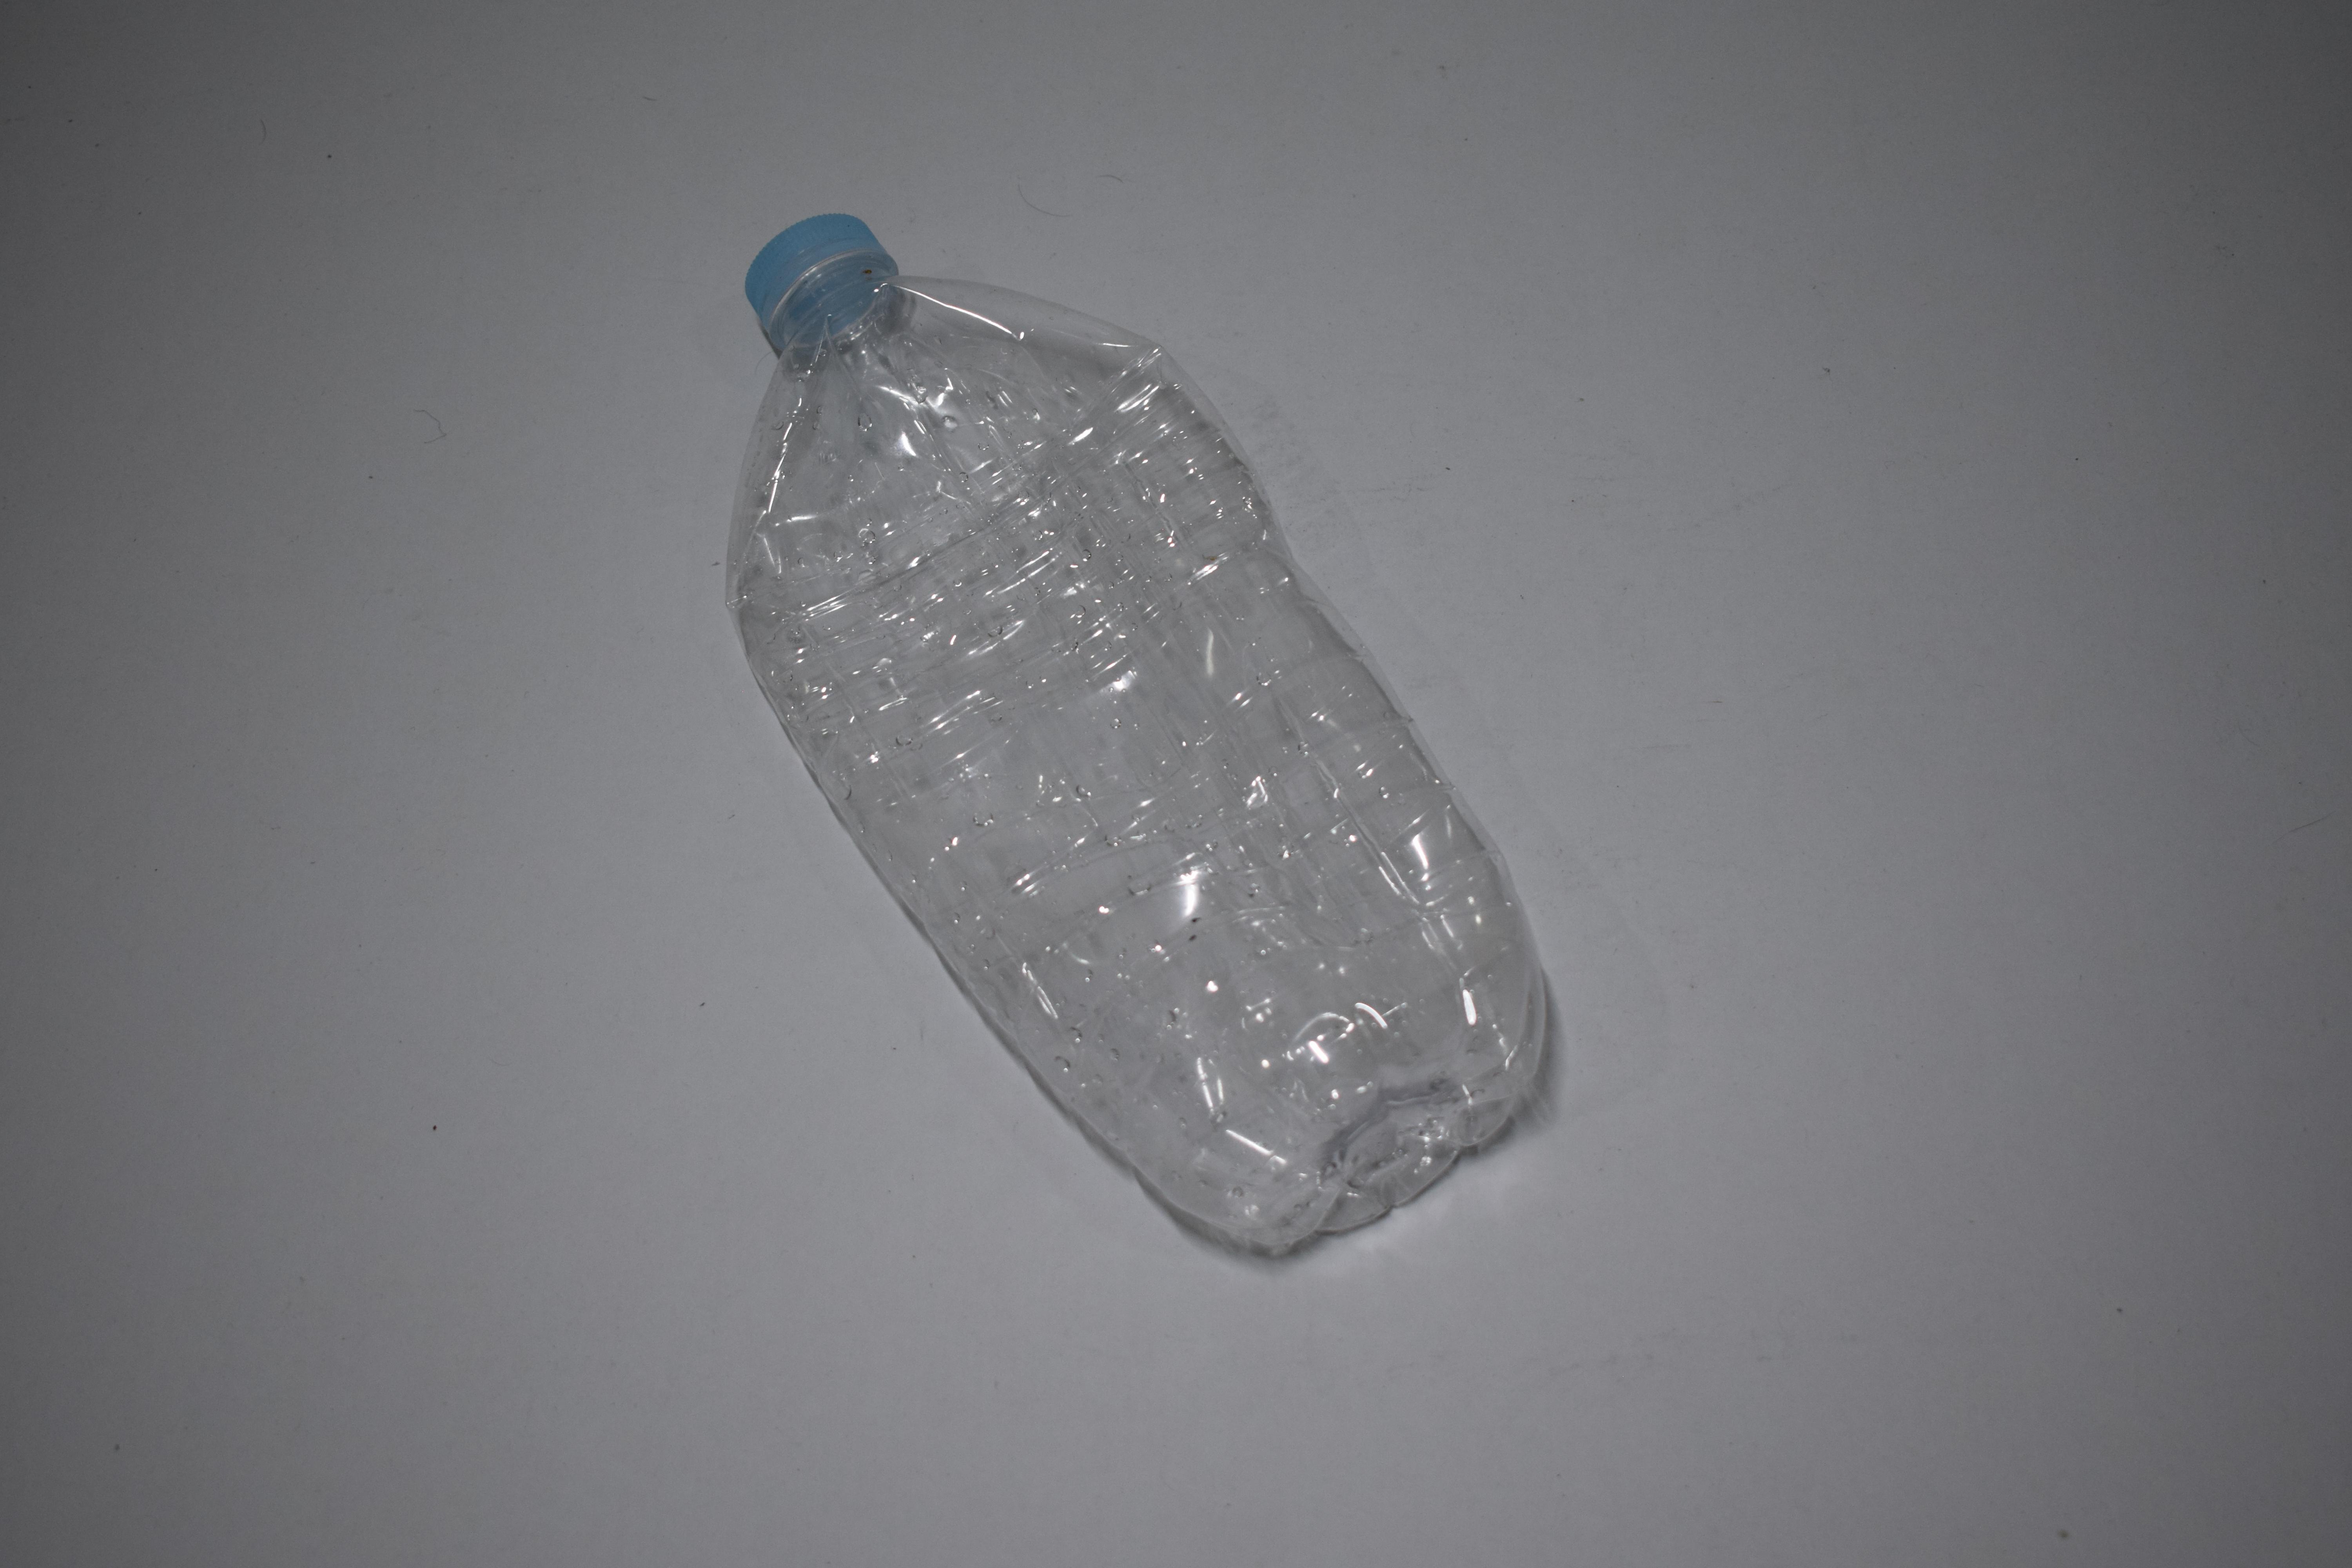bottle: (782, 199, 1508, 1269)
